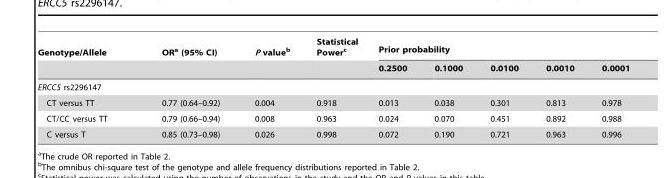table: (37, 37, 629, 138)
table column: (133, 37, 236, 138), (37, 37, 133, 138), (236, 37, 302, 138), (302, 37, 367, 138), (475, 37, 531, 138), (531, 37, 587, 138), (420, 37, 475, 138), (367, 37, 420, 138), (587, 37, 629, 138)
table column header: (37, 37, 629, 77)
table projected row header: (37, 77, 629, 94)
table row: (37, 37, 629, 60), (37, 60, 629, 77), (37, 77, 629, 94), (37, 94, 629, 110), (37, 110, 629, 126), (37, 126, 629, 138)
table spanning cell: (367, 37, 629, 60), (133, 37, 236, 77), (37, 37, 133, 77), (236, 37, 302, 77), (302, 37, 367, 77)
